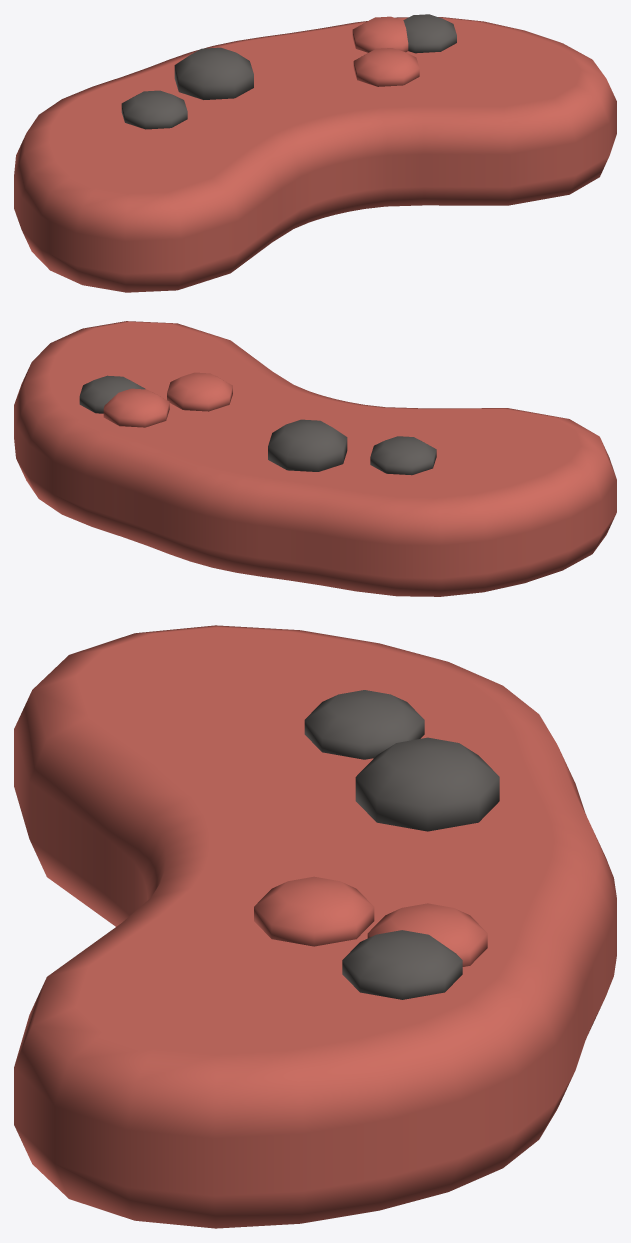
File: game_controller.glb
3 views of the same model, one above another, from view 1: azimuth 30°, elevation 25°; view 2: azimuth 150°, elevation 25°; view 3: azimuth 270°, elevation 25° (orthographic). The views are drawn at different scales.
Parts seen in each view (by area): view 1: game_controller_mesh; view 2: game_controller_mesh; view 3: game_controller_mesh.
Part boxes in pixels (left/top/right/bottom): game_controller_mesh: left=14, top=14, right=616, bottom=292; game_controller_mesh: left=14, top=321, right=616, bottom=596; game_controller_mesh: left=14, top=625, right=616, bottom=1228.
Size of the model in its own units: 0.1801 by 0.0392 by 0.0955.
